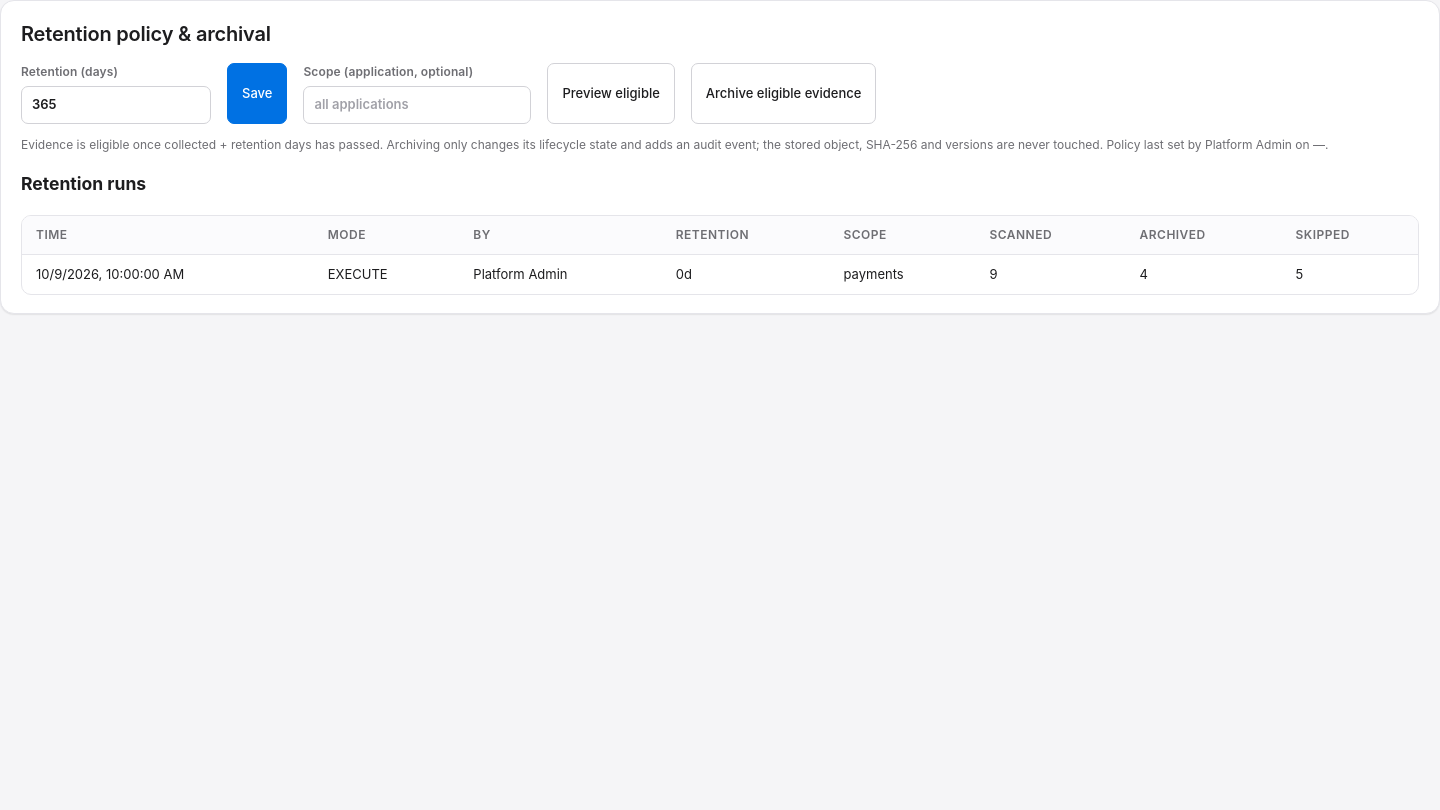
Test: RetentionPanel › an unscoped run sends the explicit allApplications scope (the backend refuses an unscoped EXECUTE)
The width and height of the screenshot is (1440, 810).
Expected: the number field showing "365" is shown, [21,86,211,124]
Click the button "Preview eligible" at (611, 93), box [547,63,675,124]
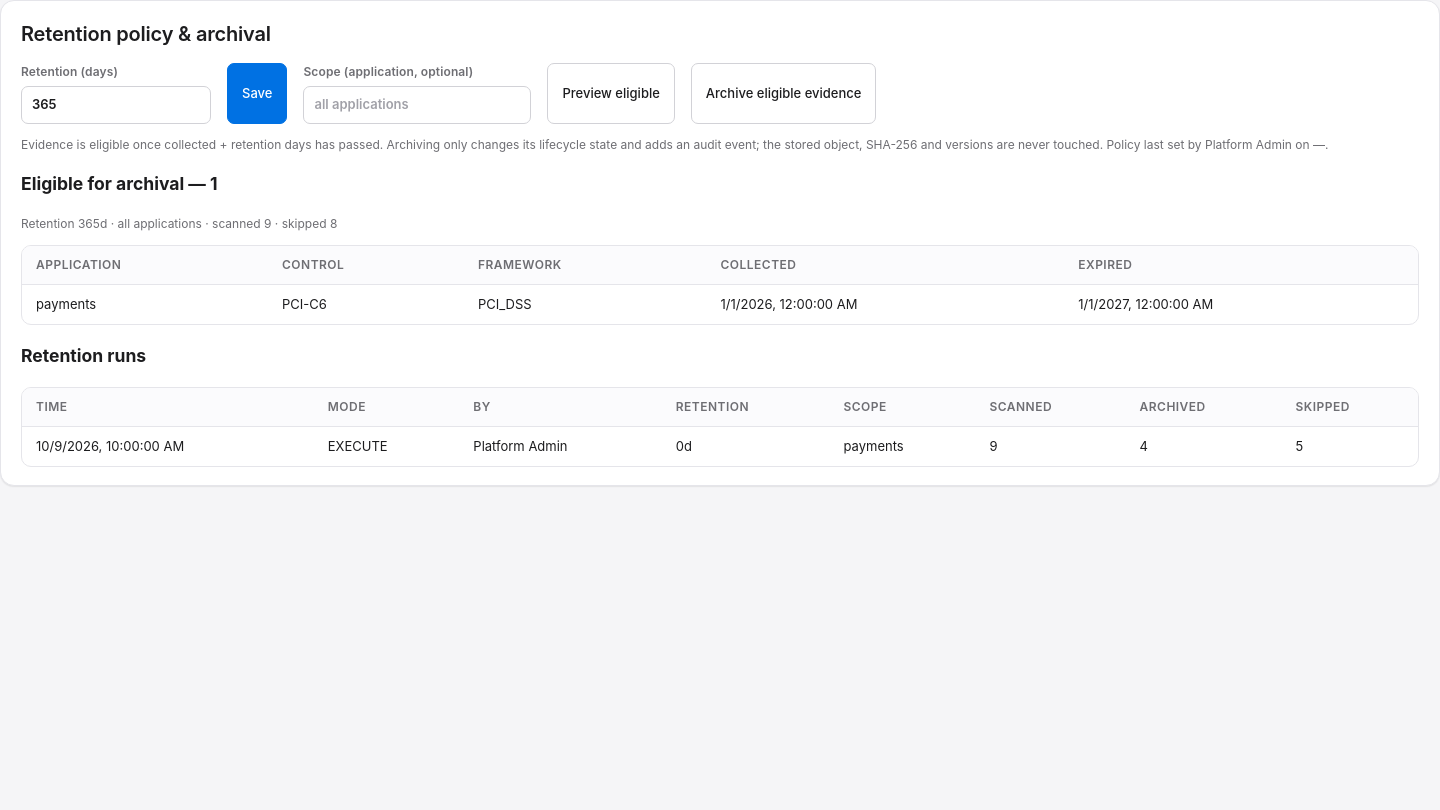
Expected: the text "PCI-C6" is shown, [268,284,464,324]
Click the button "Archive eligible evidence" at (784, 93), box [691,63,876,124]
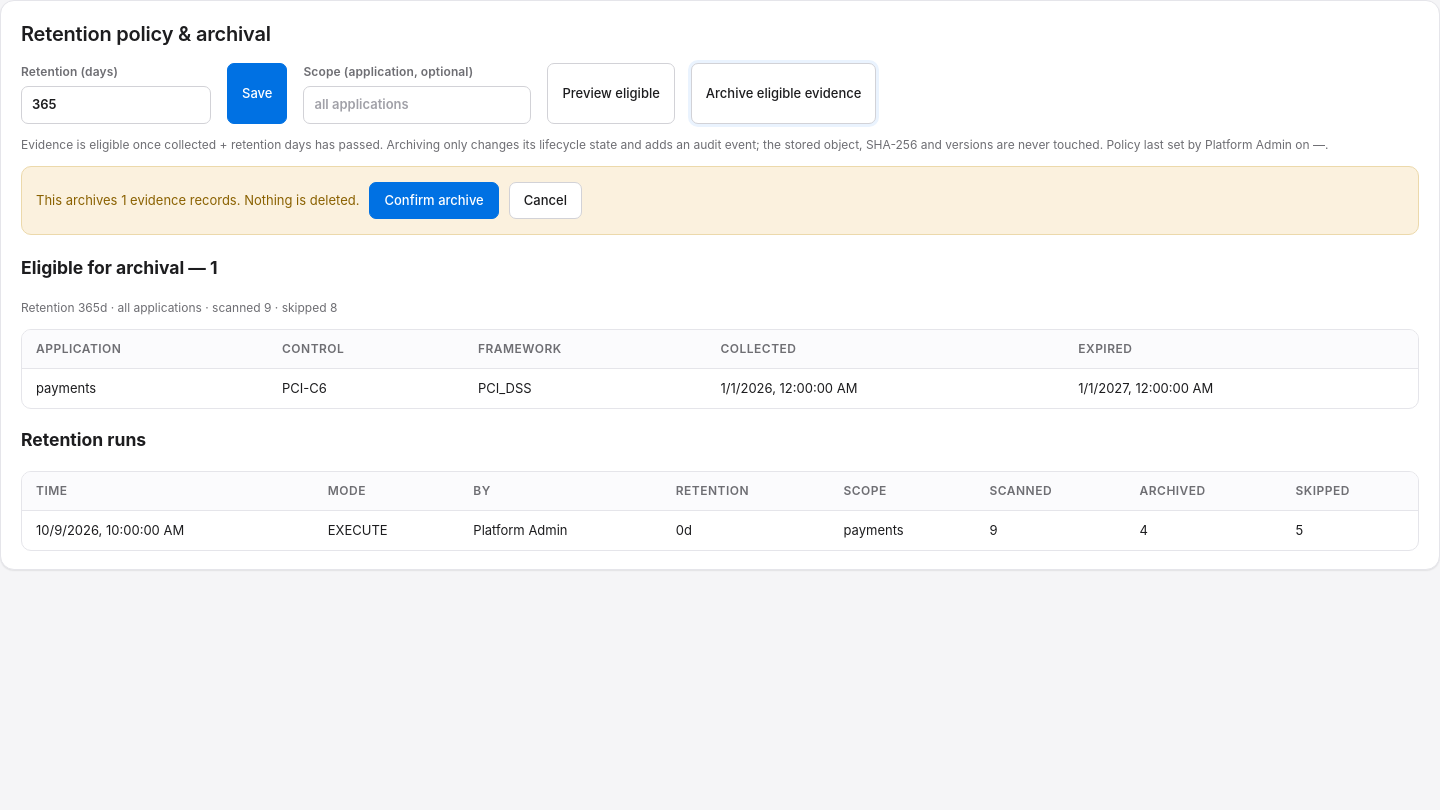
Click the button "Confirm archive" at (434, 200), box [370,182,499,219]
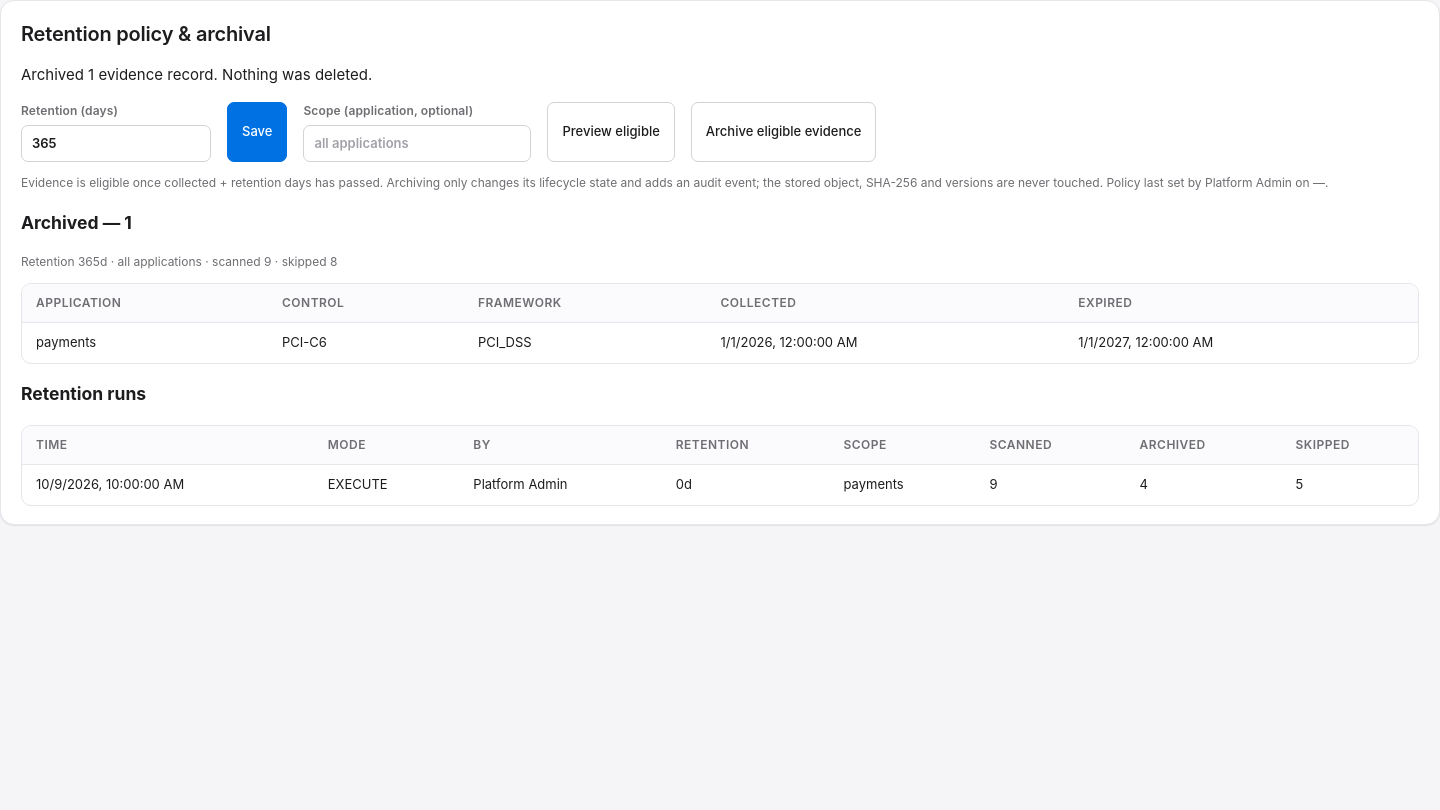
Expected: the message shows "Archived 1 evidence record.", [21,65,372,84]
